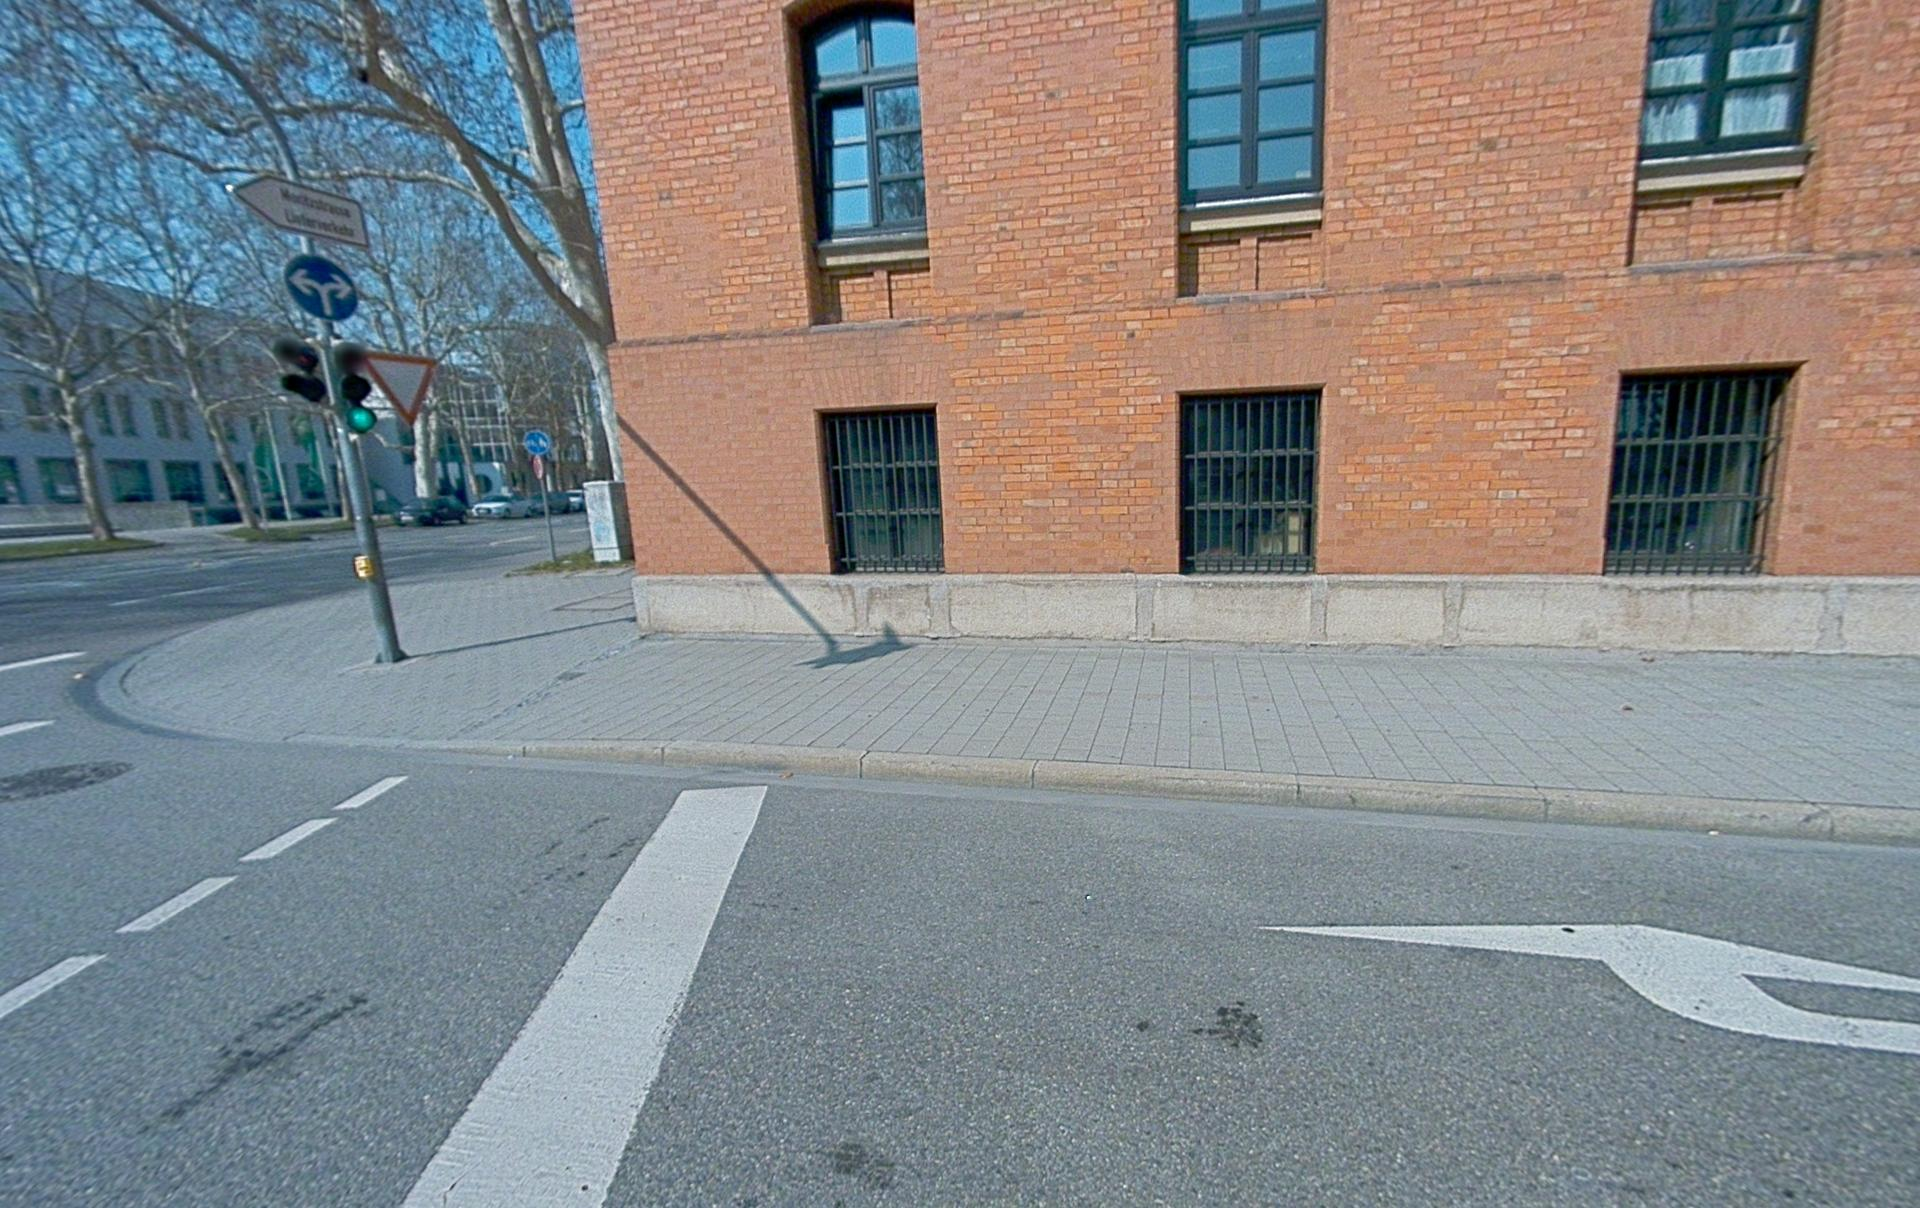car: (397, 495, 467, 526), (469, 490, 533, 519), (530, 488, 586, 516)
traffic sign: (232, 174, 370, 249), (282, 253, 359, 321), (522, 429, 551, 456)
